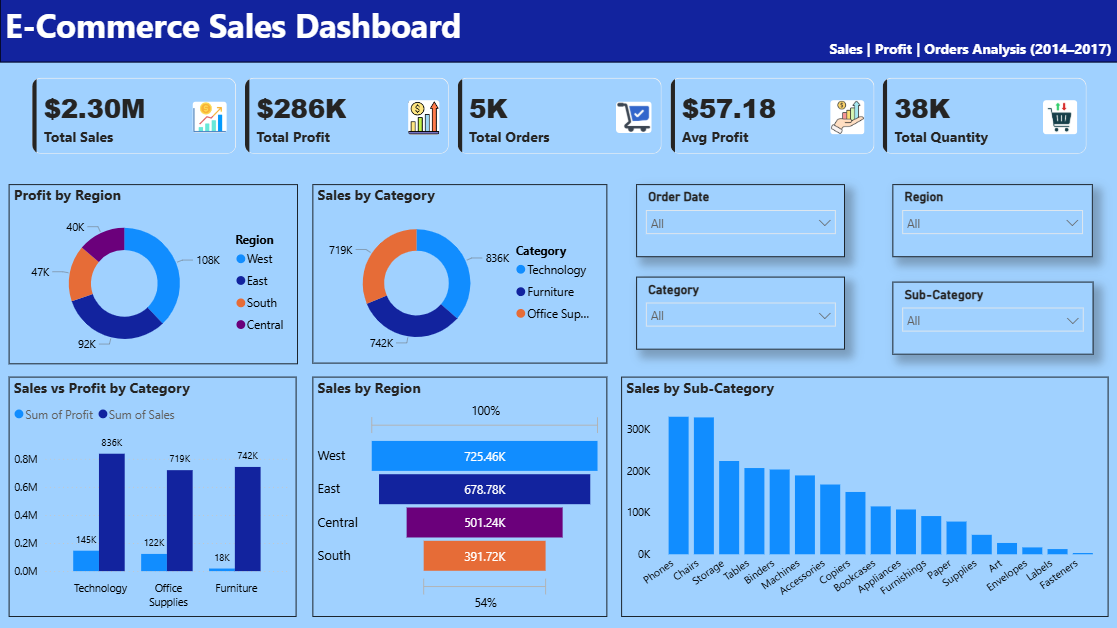

The dashboard page shown, as its layout file describes it:
{"tool":"powerbi","page":{"name":"Page 1","canvas":[1280,720],"ordinal":0},"visuals":[{"type":"donutChart","title":"Profit by Region","fields":{"Category":["final_cleaned_data.Region"],"Y":["Sum(ecommerce_sales_data.Profit)"]},"box":[10,212.9,330,205.7],"z":0},{"type":"clusteredColumnChart","title":"Sales vs Profit by Category","fields":{"Y":["Sum(final_cleaned_data.Profit)","Sum(final_cleaned_data.Sales)"],"Category":["final_cleaned_data.Category"]},"box":[10,432.9,328.6,274.3],"z":1000},{"type":"donutChart","title":"Sales by Category","fields":{"Y":["Sum(final_cleaned_data.Sales)"],"Category":["final_cleaned_data.Category"]},"box":[357.1,213.5,336.6,205.1],"z":2000},{"type":"funnel","title":"Sales by Region","fields":{"Y":["Sum(ecommerce_sales_data.Sales)"],"Category":["final_cleaned_data.Region"]},"box":[357.1,432.9,337.1,274.3],"z":3000},{"type":"clusteredColumnChart","title":"Sales by Sub-Category","fields":{"Category":["final_cleaned_data.Sub-Category"],"Y":["Sum(final_cleaned_data.Sales)"]},"box":[710,432.9,557.1,274.3],"z":4000},{"type":"slicer","fields":{"Values":["final_cleaned_data.Sub-Category"]},"box":[1019.4,324.5,229.2,83.2],"z":5000},{"type":"slicer","fields":{"Values":["final_cleaned_data.Order Date"]},"box":[727.1,212.9,238.6,82.9],"z":6000},{"type":"slicer","fields":{"Values":["final_cleaned_data.Category"]},"box":[727.1,318.6,238.6,82.9],"z":7000},{"type":"slicer","fields":{"Values":["final_cleaned_data.Region"]},"box":[1020,212.9,228.6,82.9],"z":8000},{"type":"textbox","box":[0,0,1281.2,73.6],"z":9000},{"type":"cardVisual","fields":{"Data":["final_cleaned_data.Total Sales","final_cleaned_data.Total Profit","final_cleaned_data.Total Orders","final_cleaned_data.Avg Profit per Order","final_cleaned_data.Total Quantity"]},"box":[0,73.6,1280,121.9],"z":10000},{"type":"textbox","box":[943.4,41,336.6,32.6],"z":11000}]}

Visuals, with their boxes in screenshot pixels (x1, y1, x2, y2), scaled from the page's 1280x720 canvas onto the 1117x628 screenshot:
"Profit by Region" donutChart: [left=9, top=186, right=297, bottom=365]
"Sales vs Profit by Category" clusteredColumnChart: [left=9, top=378, right=295, bottom=617]
"Sales by Category" donutChart: [left=312, top=186, right=605, bottom=365]
"Sales by Region" funnel: [left=312, top=378, right=606, bottom=617]
"Sales by Sub-Category" clusteredColumnChart: [left=620, top=378, right=1106, bottom=617]
slicer - final_cleaned_data.Sub-Category: [left=890, top=283, right=1090, bottom=356]
slicer - final_cleaned_data.Order Date: [left=635, top=186, right=843, bottom=258]
slicer - final_cleaned_data.Category: [left=635, top=278, right=843, bottom=350]
slicer - final_cleaned_data.Region: [left=890, top=186, right=1090, bottom=258]
textbox: [left=0, top=0, right=1116, bottom=64]
cardVisual - final_cleaned_data.Total Sales x final_cleaned_data.Total Profit: [left=0, top=64, right=1116, bottom=171]
textbox: [left=823, top=36, right=1116, bottom=64]
